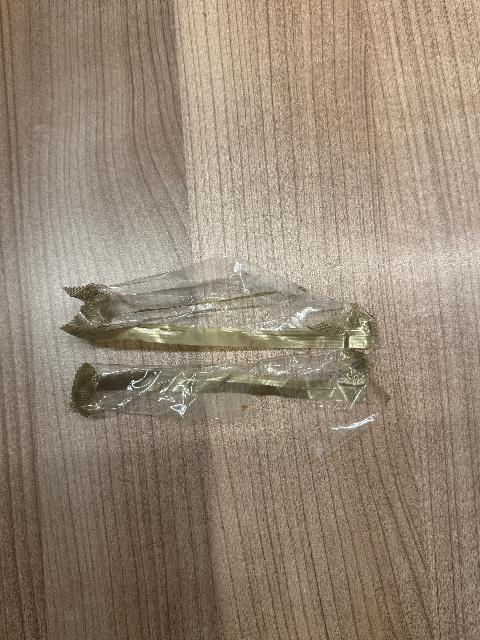Plastik: (62, 258, 395, 450)
